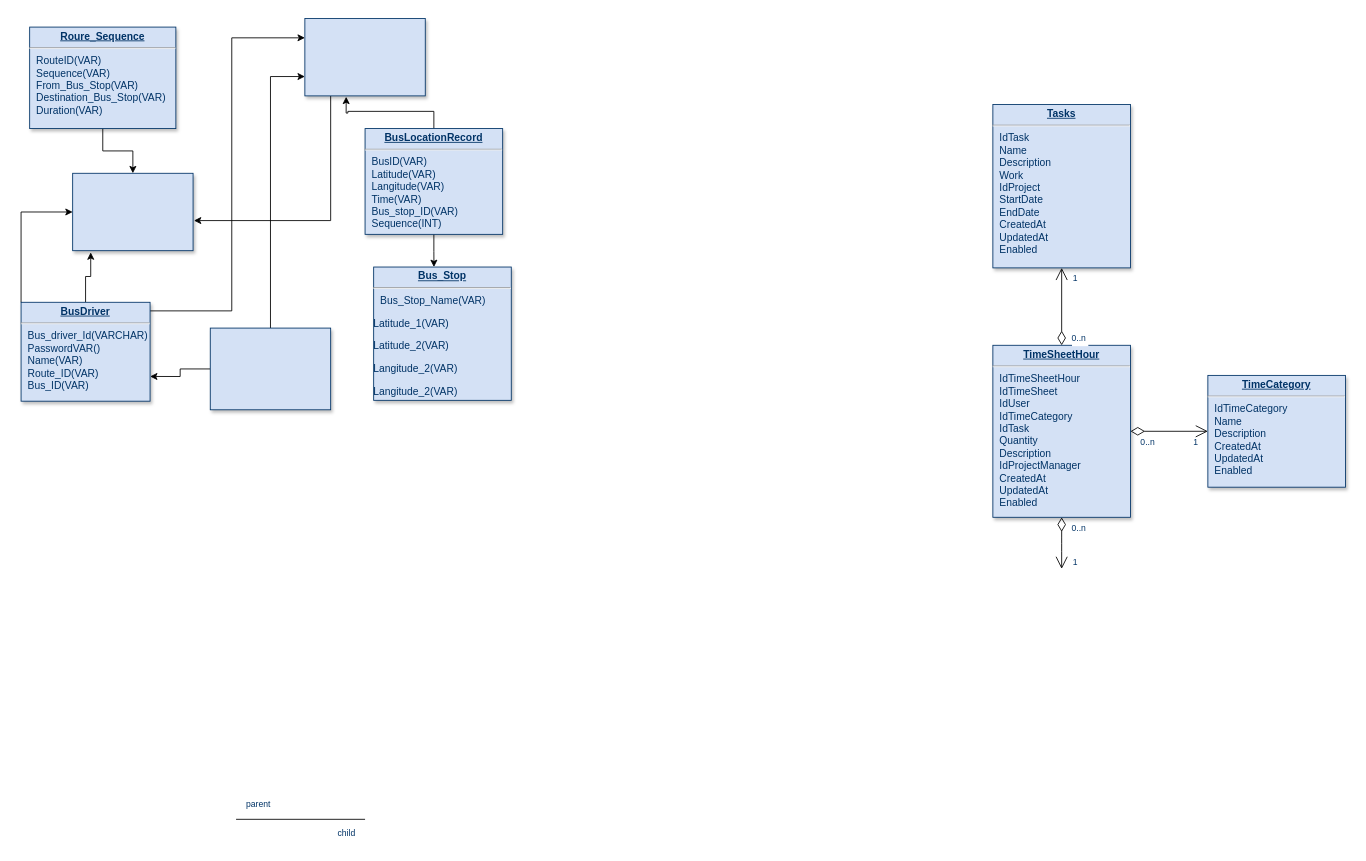
This 1366x861 diagram has some shape labels left out. Each missing label, with the centre of its shape:
"Bus BusID(VAR) BusNumber(VAR) BusDestination(VAR)" goes at pixel 365 58.
"BusSchedule Bus_ID(VAR) Bus_Driver_ID(VAR) RouteID(VAR) Time(VAR)" goes at pixel 271 370.
"Route RouteID(VARCHAR) RouteName(VARCHAR)" goes at pixel 133 213.
